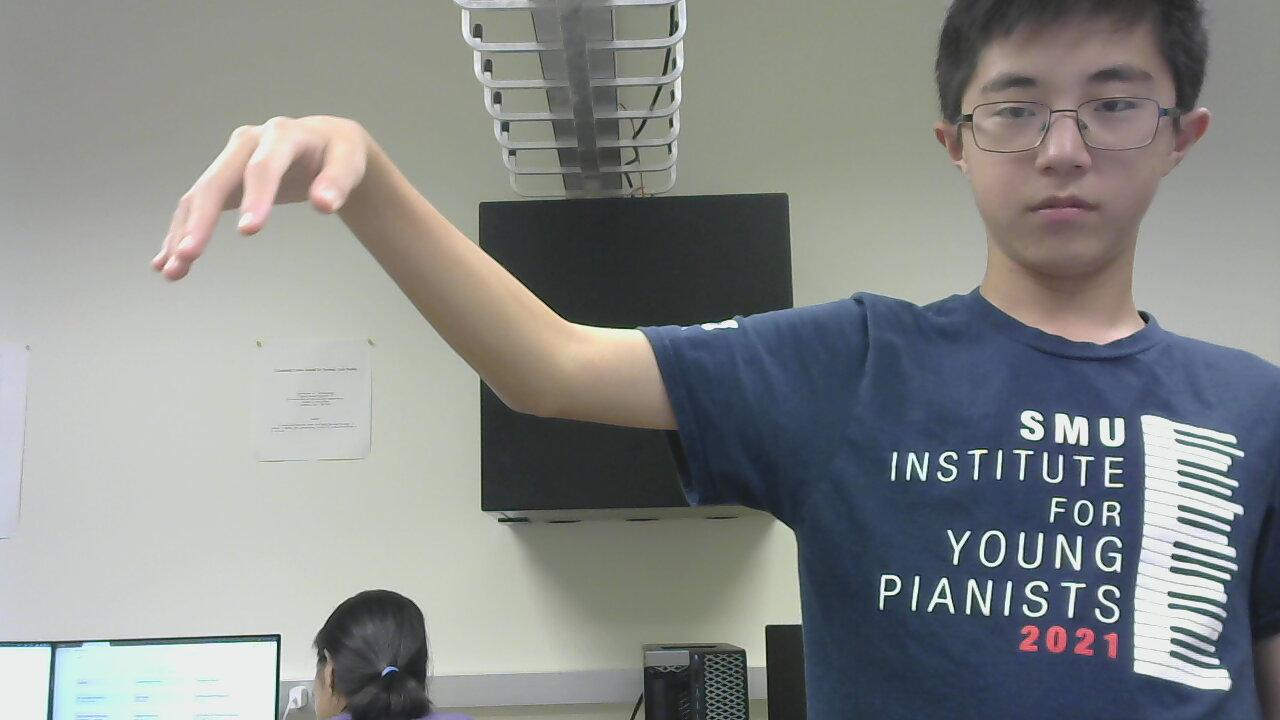hands: (141, 92, 424, 300)
